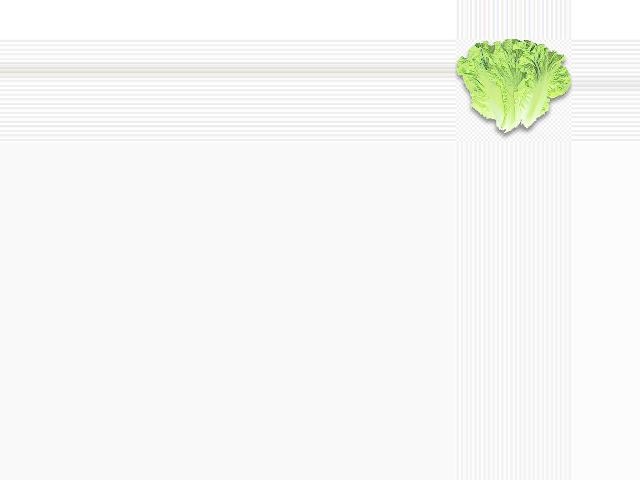lettuce: (458, 39, 573, 135)
